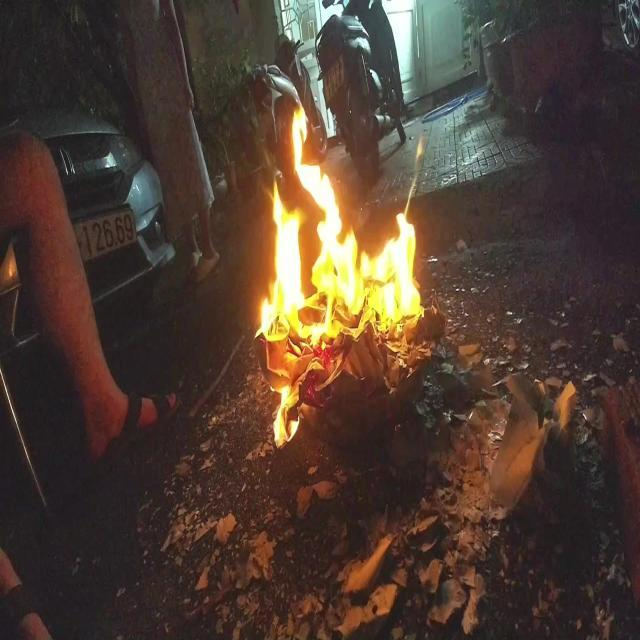Fire: (256, 108, 426, 450)
